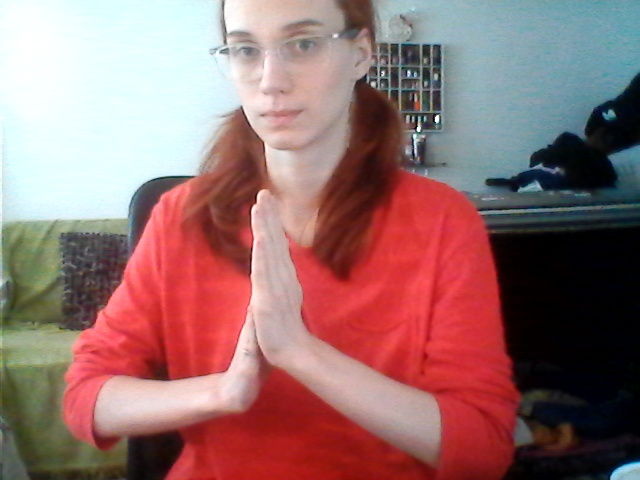prosim: (173, 194, 379, 424)
